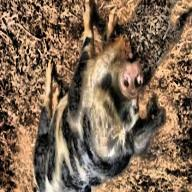boar: (33, 1, 165, 192)
